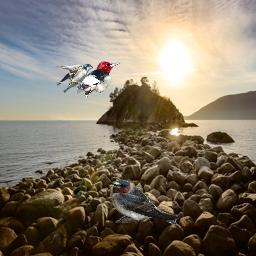Swallow: (108, 179, 179, 225), (54, 63, 93, 93)
Woodpecker: (77, 61, 121, 97)
